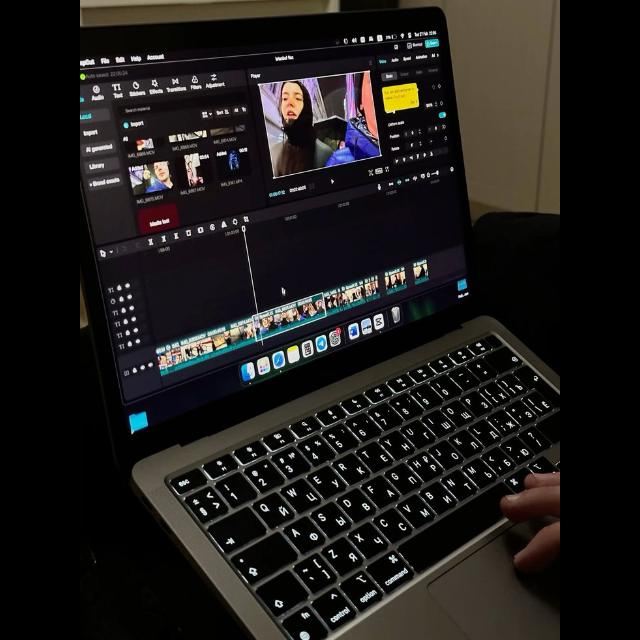laptop: (91, 29, 558, 620)
